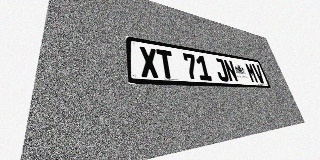1: (194, 55, 212, 81)
7: (182, 53, 200, 80)
J: (213, 58, 230, 82)
M: (244, 63, 259, 83)
N: (223, 59, 239, 82)
T: (156, 49, 176, 79)
V: (252, 64, 266, 83)
X: (139, 46, 160, 78)
